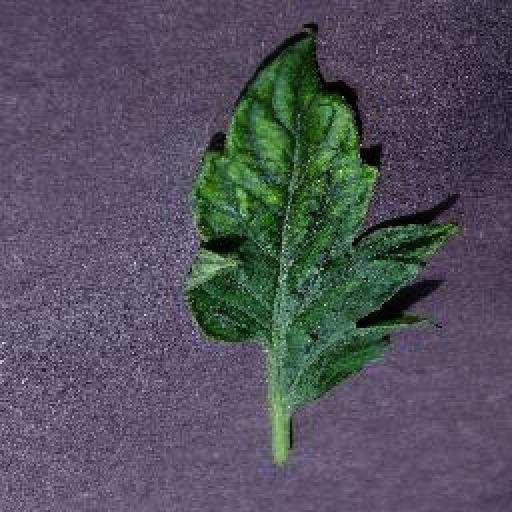disease_tomato: (181, 20, 459, 410)
